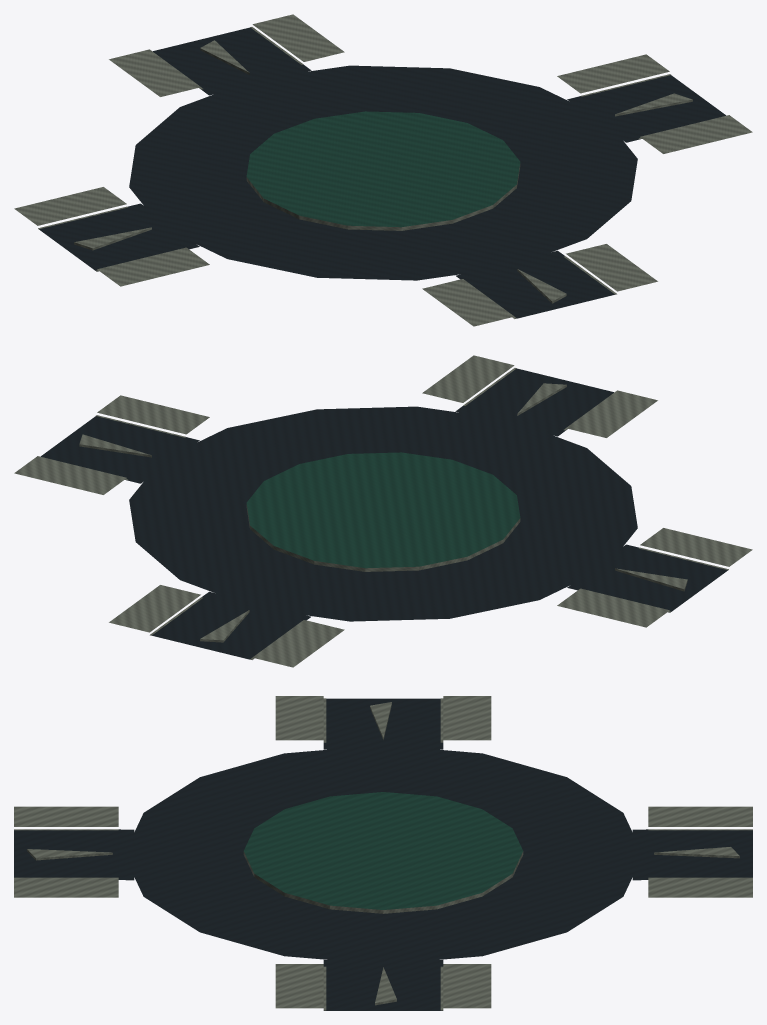
File: junc_roundabout_1lane_ShadowProxy.glb
The picture shows the model from 3 angles, top to bottom: view 1: azimuth 30°, elevation 25°; view 2: azimuth 150°, elevation 25°; view 3: azimuth 270°, elevation 25°; orthographic projection.
Parts seen in each view (by area): view 1: junc_roundabout_1lane__surface.003, junc_roundabout_1lane__center_island.003, junc_roundabout_1lane__entry_ports.003, junc_roundabout_1lane__entry_sidewalks.003, junc_roundabout_1lane__splitter_islands.003; view 2: junc_roundabout_1lane__surface.003, junc_roundabout_1lane__center_island.003, junc_roundabout_1lane__entry_ports.003, junc_roundabout_1lane__entry_sidewalks.003, junc_roundabout_1lane__splitter_islands.003; view 3: junc_roundabout_1lane__surface.003, junc_roundabout_1lane__center_island.003, junc_roundabout_1lane__entry_ports.003, junc_roundabout_1lane__entry_sidewalks.003, junc_roundabout_1lane__splitter_islands.003.
Boxes of the visible parts, x1,y1,x2,y2 form: junc_roundabout_1lane__surface.003: [129, 65, 637, 280]; junc_roundabout_1lane__center_island.003: [246, 111, 520, 230]; junc_roundabout_1lane__entry_ports.003: [39, 27, 725, 318]; junc_roundabout_1lane__entry_sidewalks.003: [14, 14, 752, 326]; junc_roundabout_1lane__splitter_islands.003: [74, 40, 692, 303]; junc_roundabout_1lane__surface.003: [129, 406, 637, 621]; junc_roundabout_1lane__center_island.003: [246, 452, 520, 571]; junc_roundabout_1lane__entry_ports.003: [41, 368, 727, 659]; junc_roundabout_1lane__entry_sidewalks.003: [14, 355, 752, 667]; junc_roundabout_1lane__splitter_islands.003: [79, 383, 687, 642]; junc_roundabout_1lane__surface.003: [124, 745, 642, 964]; junc_roundabout_1lane__center_island.003: [243, 792, 523, 913]; junc_roundabout_1lane__entry_ports.003: [14, 698, 752, 1010]; junc_roundabout_1lane__entry_sidewalks.003: [14, 696, 752, 1010]; junc_roundabout_1lane__splitter_islands.003: [27, 702, 739, 1005].
Size of the model in its own units: 37 by 0.214 by 37.
4 materials, 4 textured.
